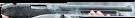gun: (0, 1, 135, 18)
